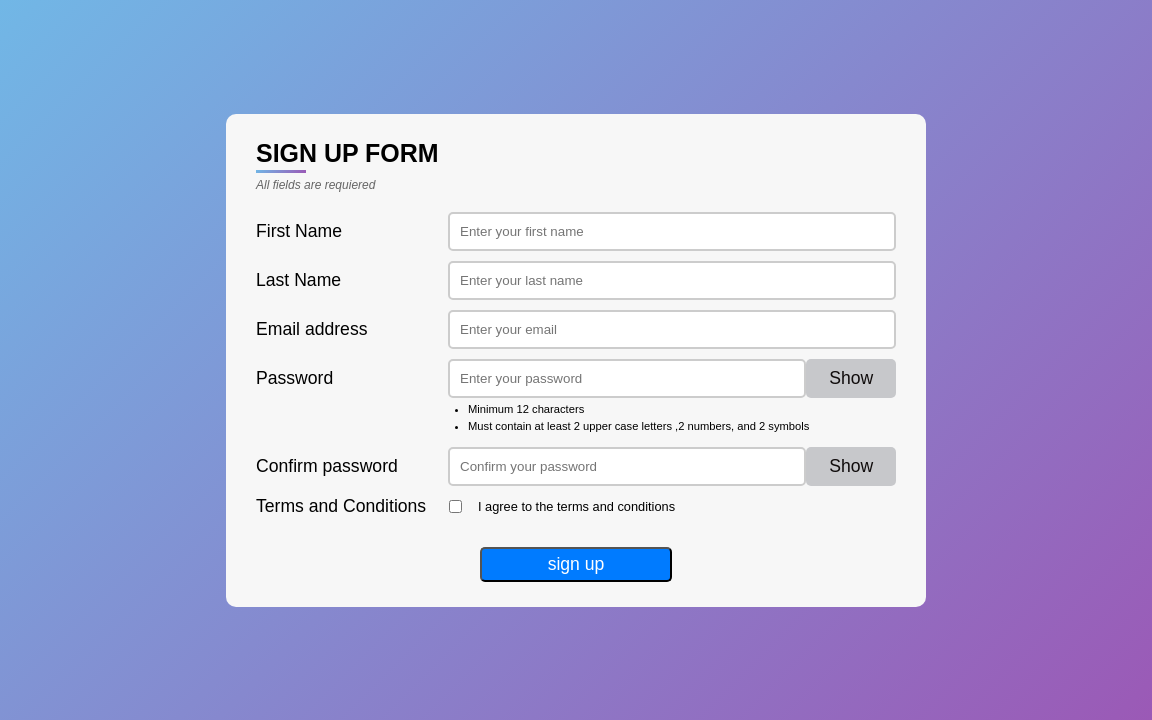
SignupForm component › should display validation errors when entering password diffremt to condition
# Enter invalid data
Type "cscdddddddddddsc" into the password field with test id "password" at (627,378), box [448, 358, 806, 398]
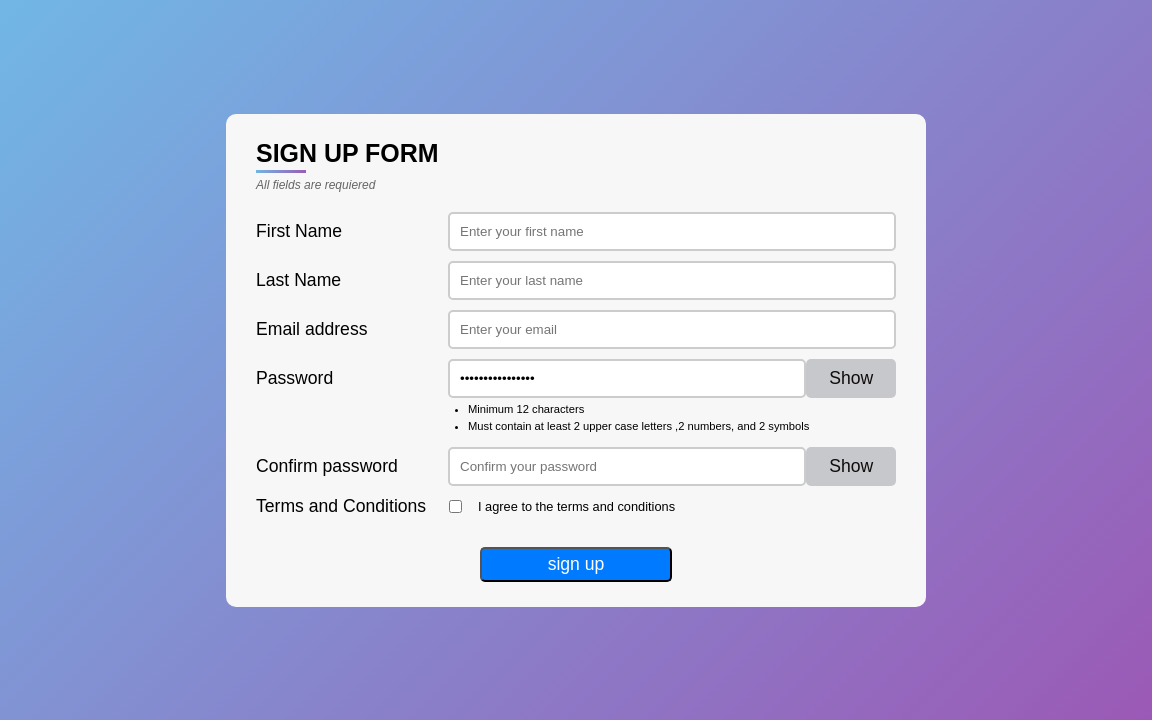
Click the button "sign up" at (576,564), box [480, 546, 672, 582]
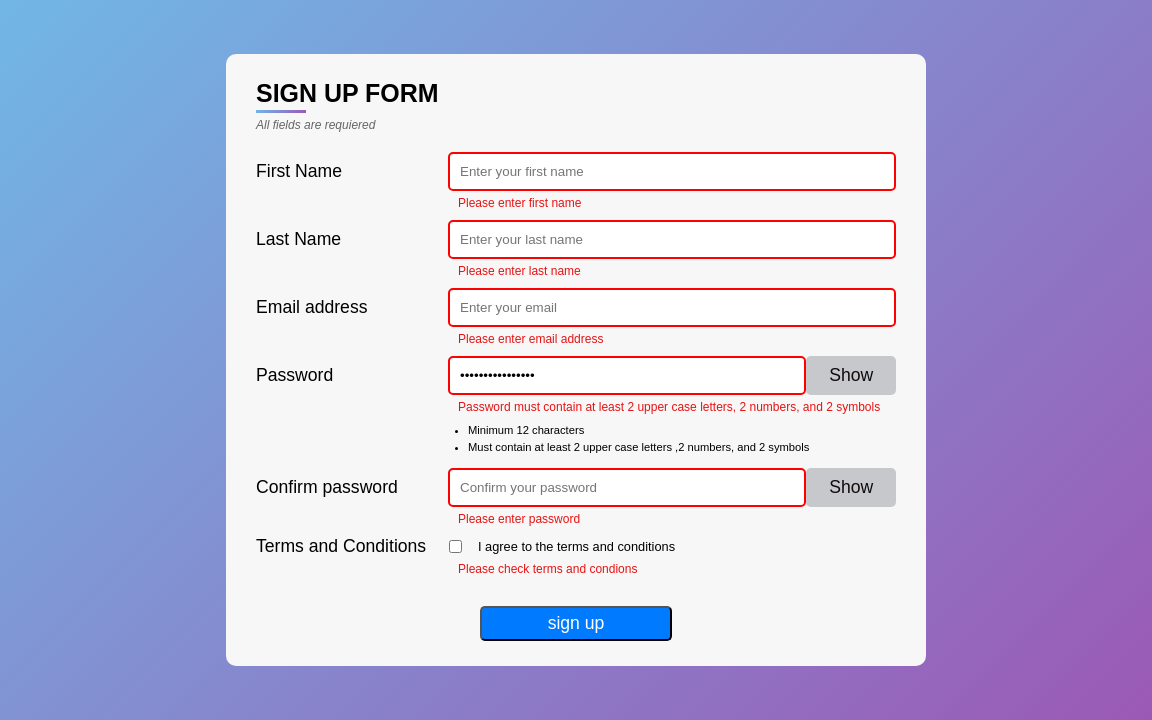
Check: the text "Password must contain at least 2 upper case letters, 2 numbers, and 2 symbols" is shown, box [448, 400, 896, 414]
